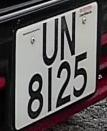1: (44, 68, 56, 113)
2: (55, 60, 72, 106)
5: (71, 55, 88, 99)
8: (25, 68, 45, 122)
N: (59, 11, 77, 62)
U: (40, 17, 60, 67)
